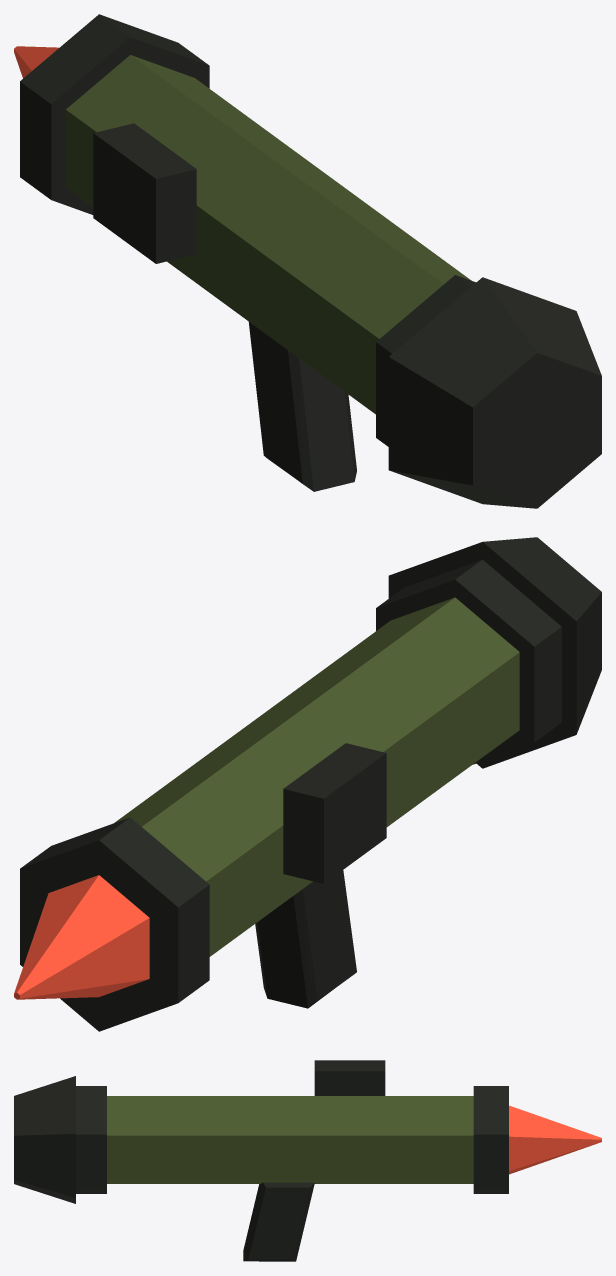
The model's file is weapon_rocket_launcher.glb.
3 renders of one model, top to bottom at view 1: azimuth 30°, elevation 25°; view 2: azimuth 150°, elevation 25°; view 3: azimuth 270°, elevation 25°, orthographic. The views are drawn at different scales.
Parts seen in each view (by area): view 1: launcher; view 2: launcher; view 3: launcher.
Part boxes in pixels (x1,y1,x2,y2): launcher: (14,14,601,508); launcher: (14,537,601,1031); launcher: (14,1060,601,1261).
Bounding box in the file's own units: 3.09 × 4.5 × 13.3.
